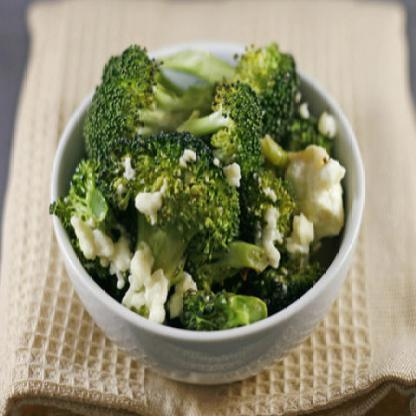broccoli: (52, 43, 350, 334)
